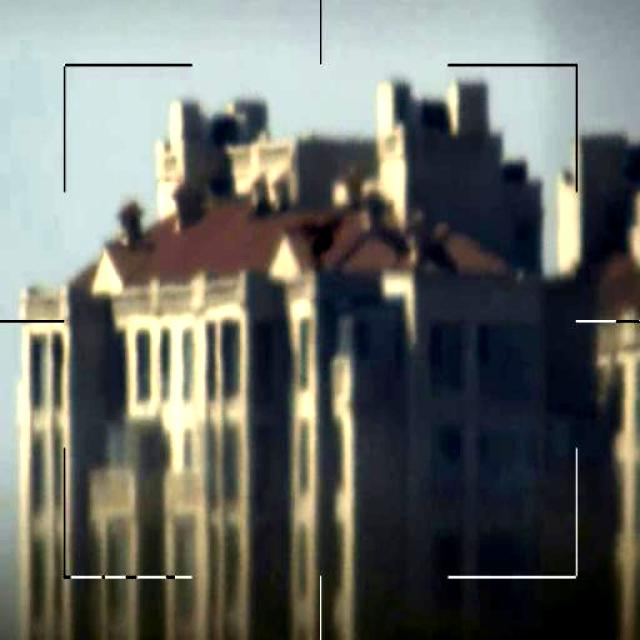bird: (291, 199, 345, 262)
